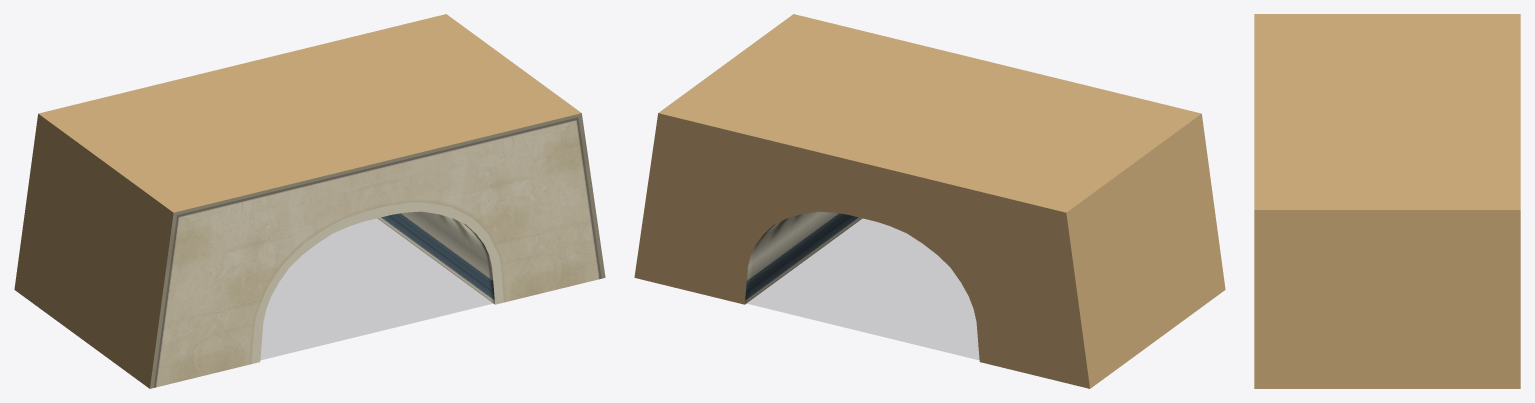
File: tunnel00.fbx
3 renders of one model, left to right at view 1: azimuth 30°, elevation 25°; view 2: azimuth 150°, elevation 25°; view 3: azimuth 270°, elevation 25°, orthographic.
Parts seen in each view (by area): view 1: tunnel, shadow; view 2: tunnel, shadow; view 3: tunnel.
Part boxes in pixels (left/top/right/bottom): tunnel: left=14, top=14, right=605, bottom=388; shadow: left=261, top=218, right=493, bottom=359; tunnel: left=634, top=14, right=1225, bottom=388; shadow: left=746, top=218, right=978, bottom=359; tunnel: left=1254, top=14, right=1520, bottom=388.
Bounding box in the file's own units: 38.84 × 13.88 × 20.
Materials: 2 (1 with a texture image).
